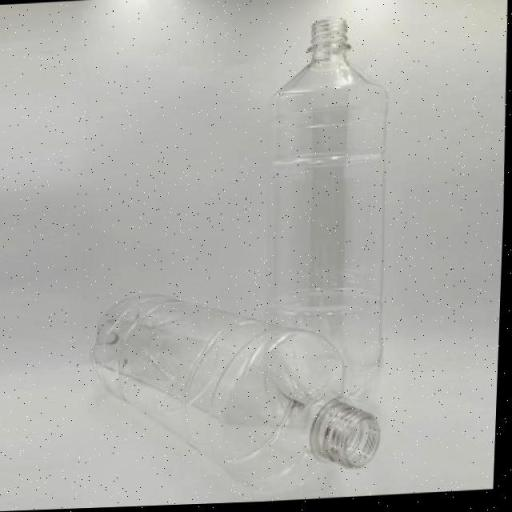plastic: (87, 281, 390, 500), (254, 19, 396, 378)
